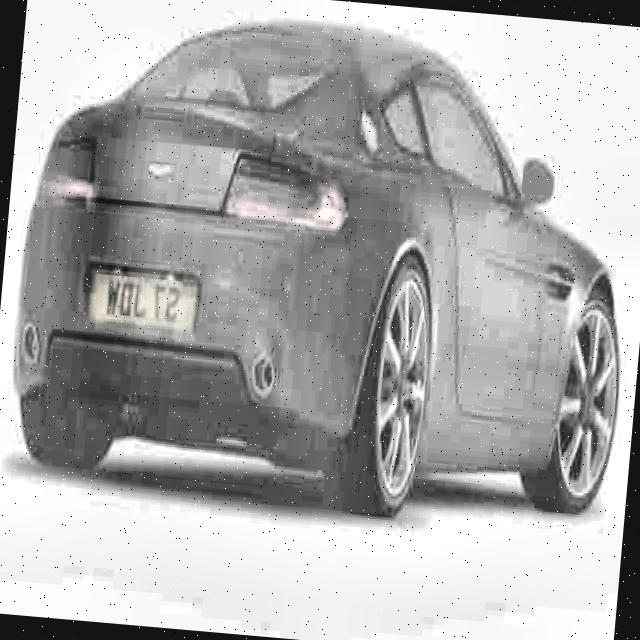license_plate: (93, 274, 188, 333)
